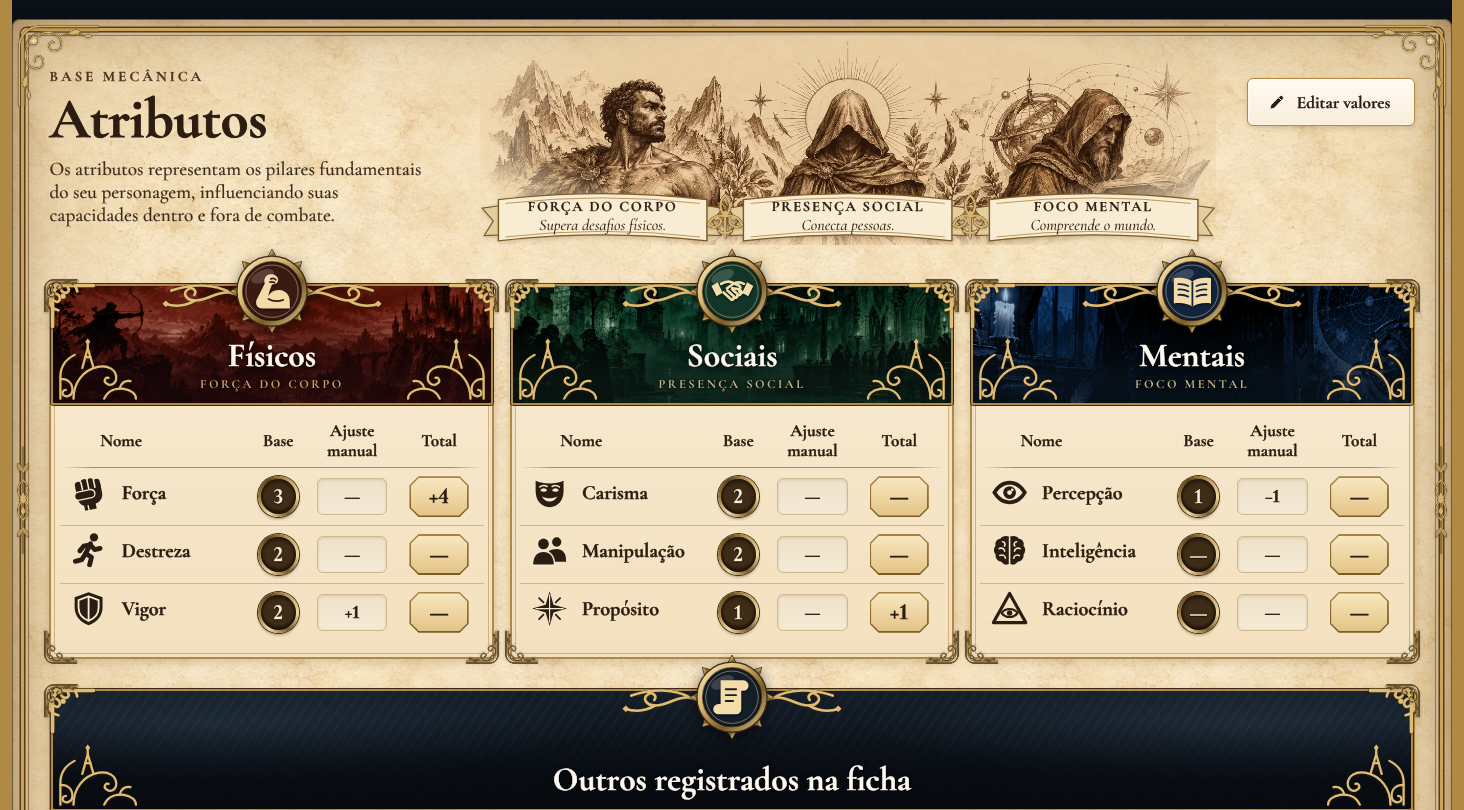
Test: AtributosFicha — aba Atributos › abre as fontes do total e mostra o motivo quando não é calculável
The image size is (1464, 810).
Click the button named "Fontes de Força": (439, 497) [410,476,469,517]
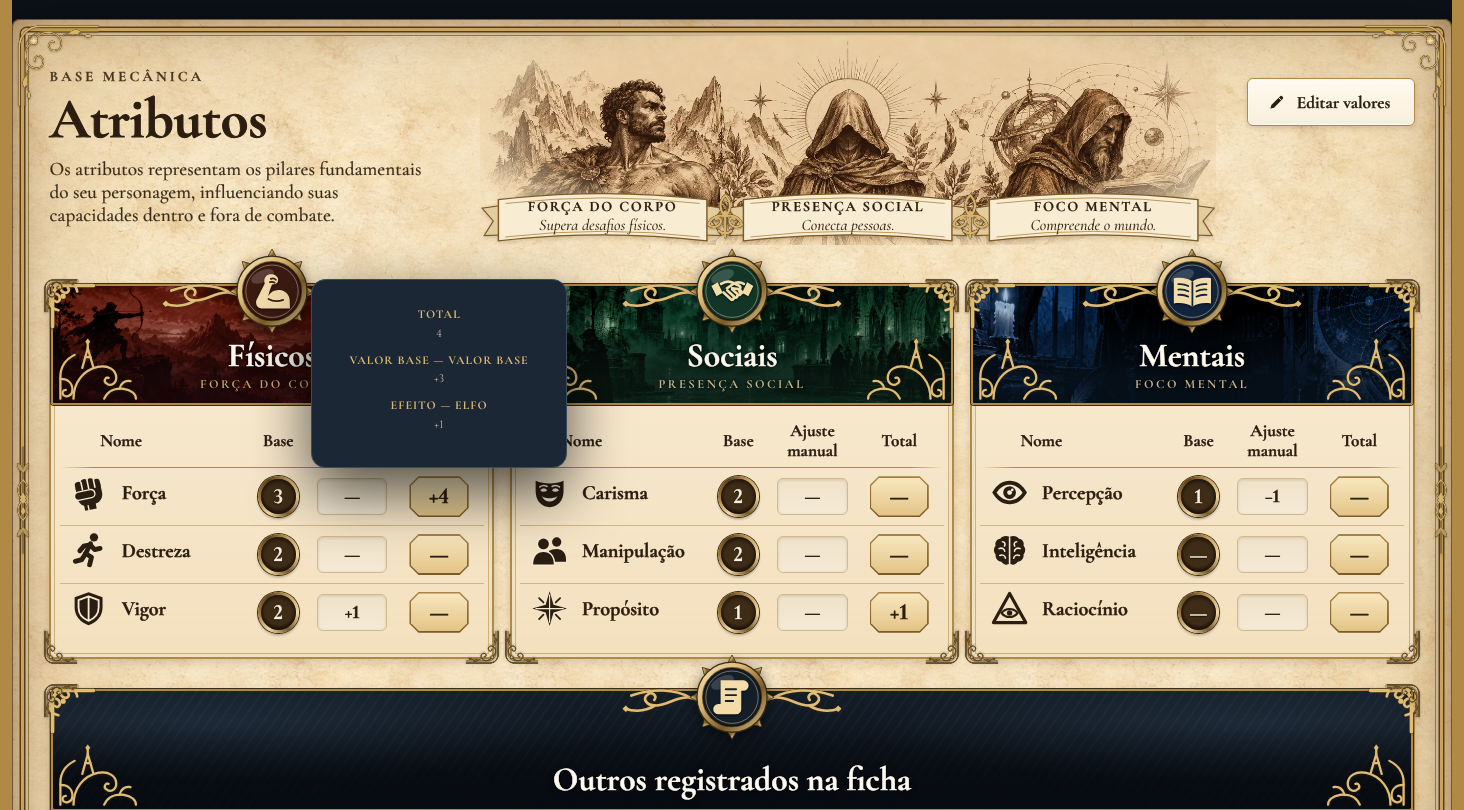
Expected: the text "Efeito — Elfo" is shown, [391,398,488,412]
Click the button named "Destreza: não calculável": (439, 554) [410,534,469,575]
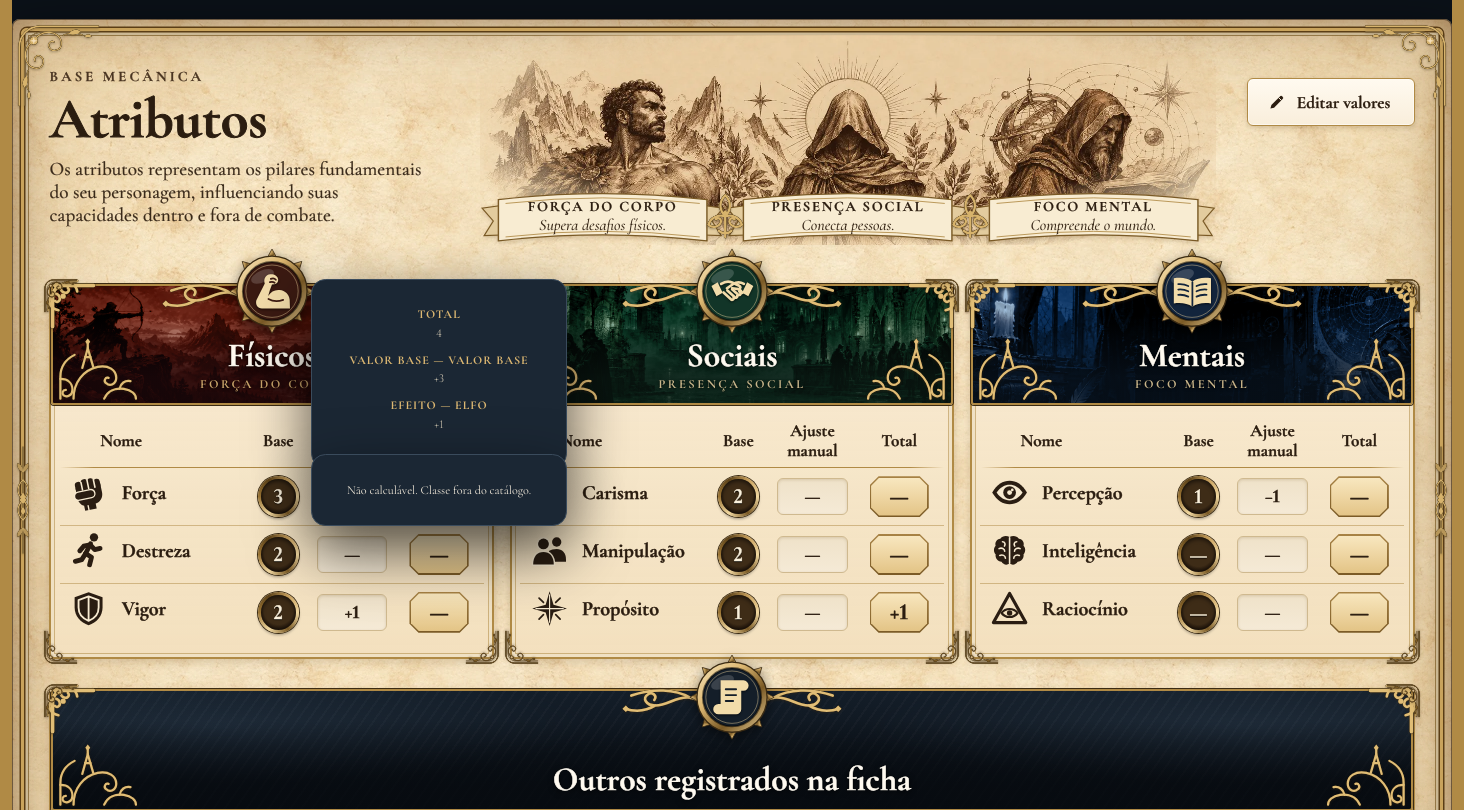
Expected: the text "Não calculável. Classe fora do catálogo." is shown, [347,482,531,496]
